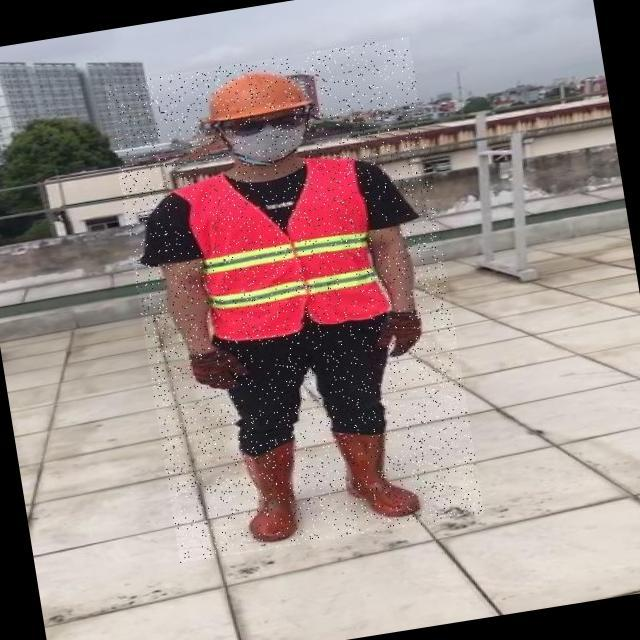Gloves: (182, 344, 252, 398), (377, 309, 429, 359)
Helmet: (195, 61, 326, 130)
Human: (105, 37, 485, 563)
Safety Boot: (332, 422, 419, 523), (237, 445, 308, 550)
Safety Vest: (179, 154, 388, 345)
